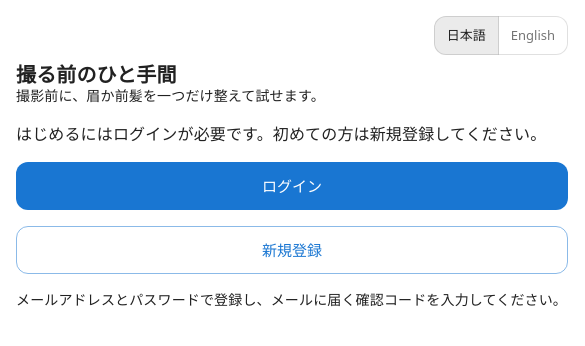
Scenario: self-registration › also explains registration and verification in English
Click the button "English". click: click(533, 35)
box: [498, 16, 568, 55]
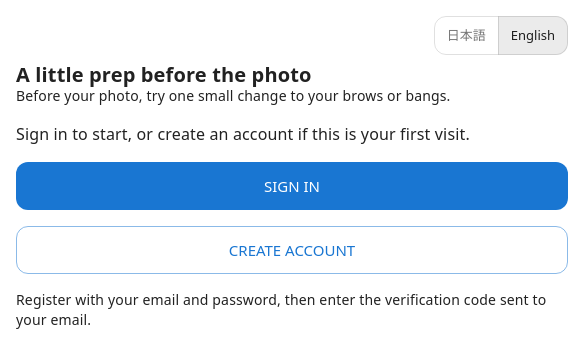
Now the button "Create account" is shown, box [16, 226, 568, 274]
Now the text "verification code sent to your email" is shown, box [16, 290, 546, 329]
